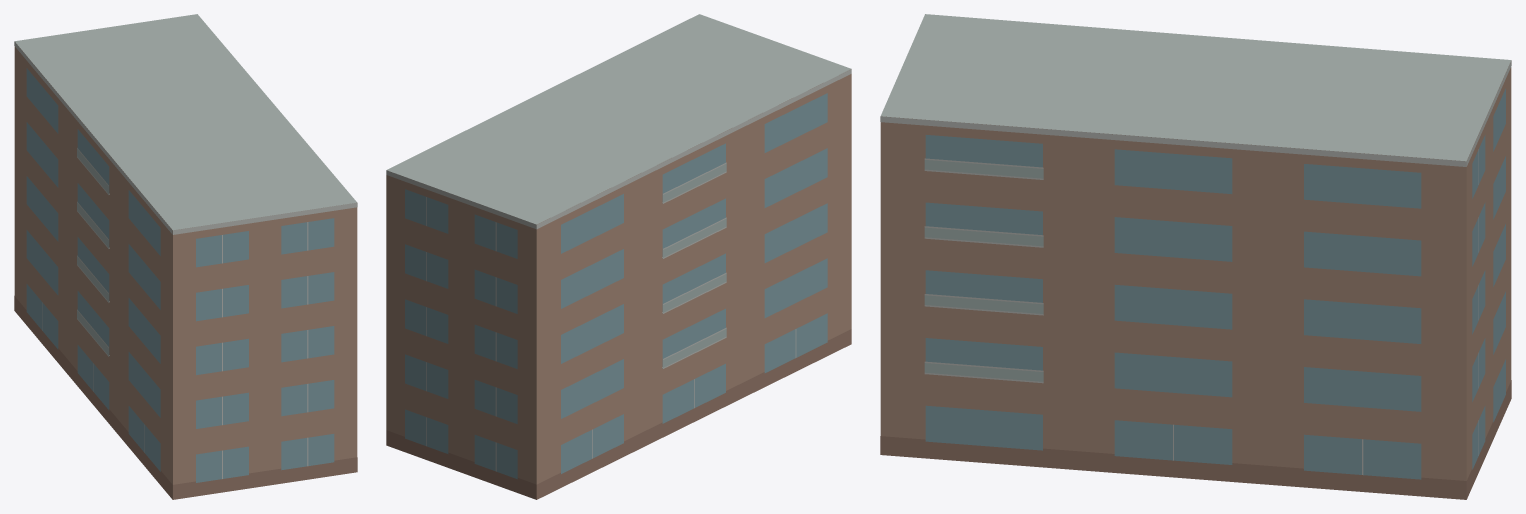
File: survey-upis-32539424.glb
The picture shows the model from 3 angles, left to right: view 1: azimuth 30°, elevation 25°; view 2: azimuth 150°, elevation 25°; view 3: azimuth 270°, elevation 25°; orthographic projection. The views are drawn at different scales.
Parts seen in each view (by area): view 1: survey-upis-32539424.tmp; view 2: survey-upis-32539424.tmp; view 3: survey-upis-32539424.tmp.
Part boxes in pixels (x1=…): survey-upis-32539424.tmp: x1=14, y1=14, x2=357, y2=499; survey-upis-32539424.tmp: x1=386, y1=14, x2=851, y2=499; survey-upis-32539424.tmp: x1=880, y1=14, x2=1511, y2=499.
Bounding box in the file's own units: 13.21 × 14.15 × 23.91.
